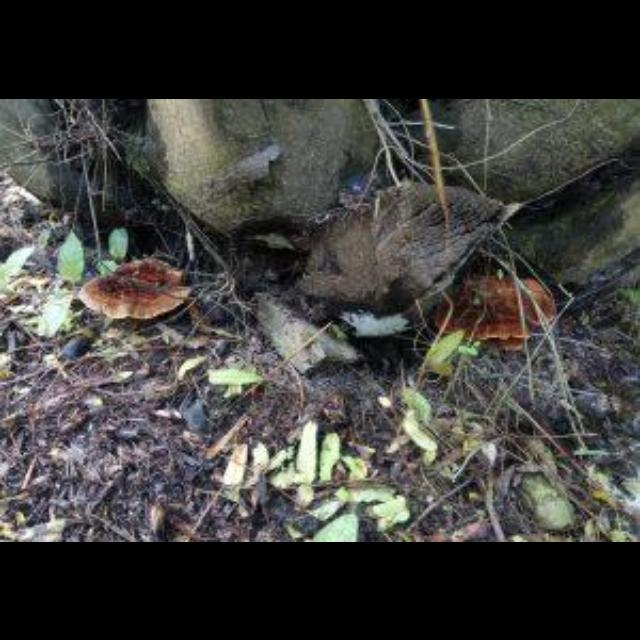ganoderma: (435, 272, 560, 353), (80, 256, 197, 322)
